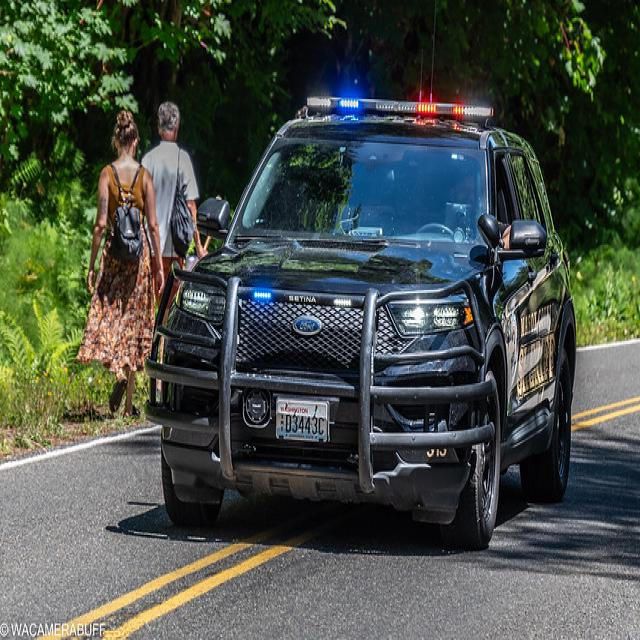cop: (151, 109, 589, 523)
